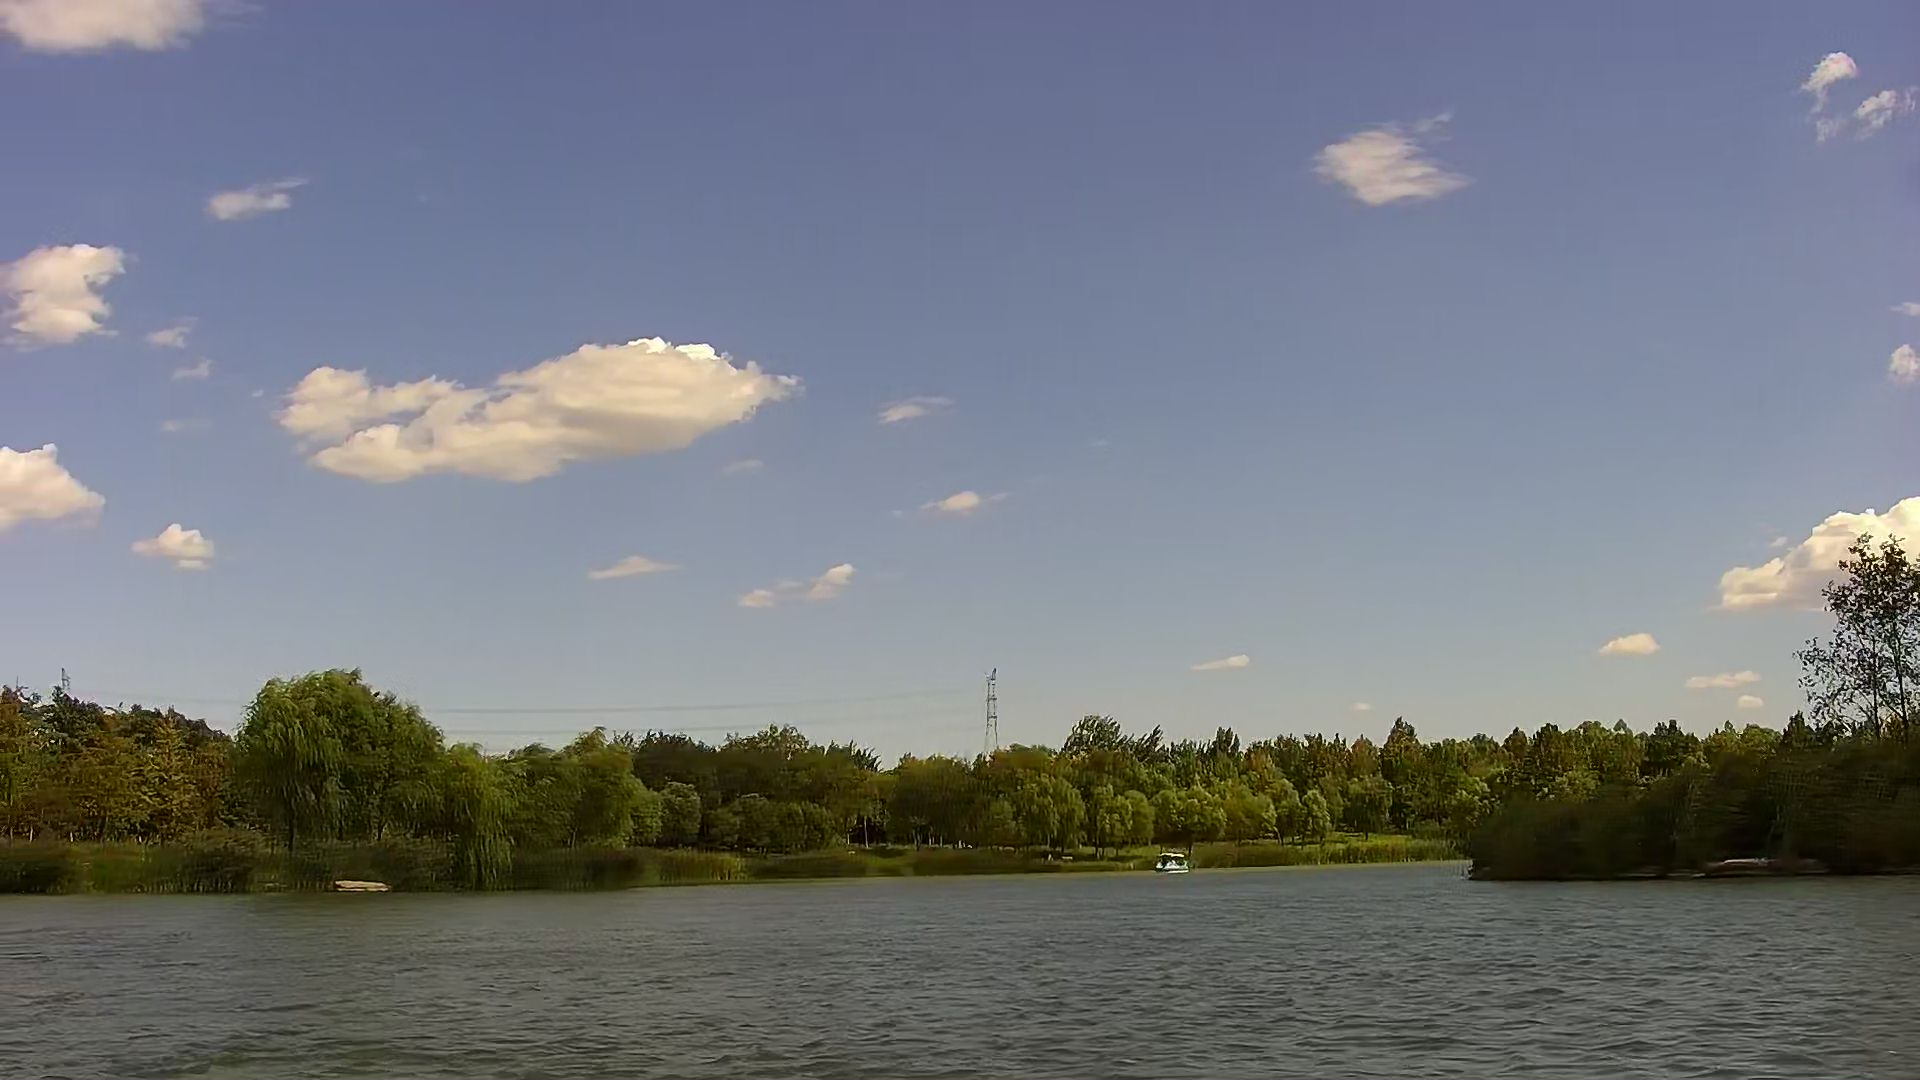boat: (1156, 847, 1185, 872)
rock: (1713, 853, 1789, 874), (334, 876, 378, 891)
